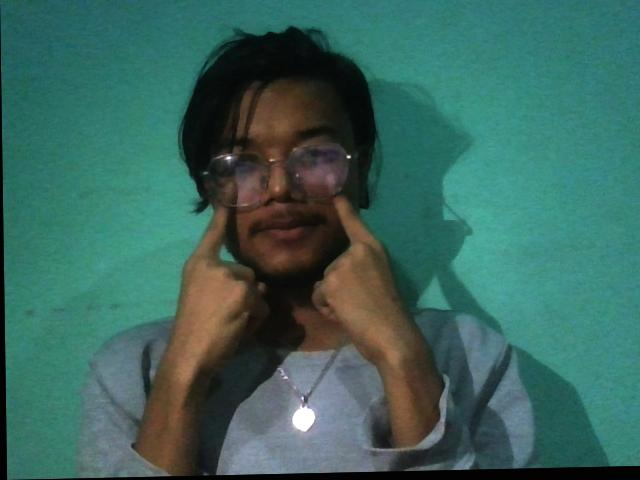Cry: (170, 171, 445, 383)
